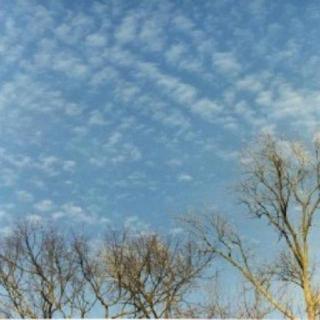Cirrocumulus: (0, 0, 320, 266)
